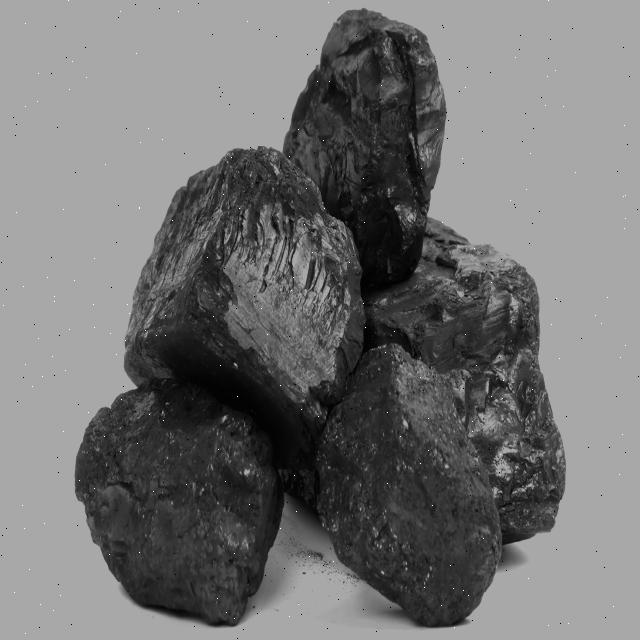Sedimentary: (61, 13, 603, 638)
